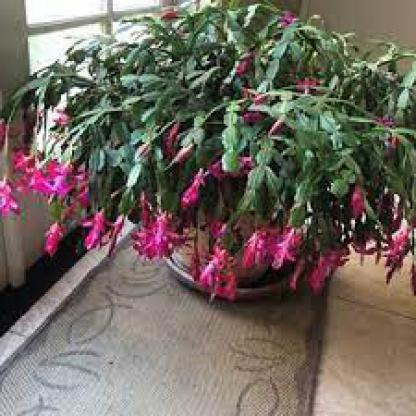Aglonema: (8, 7, 318, 76)
